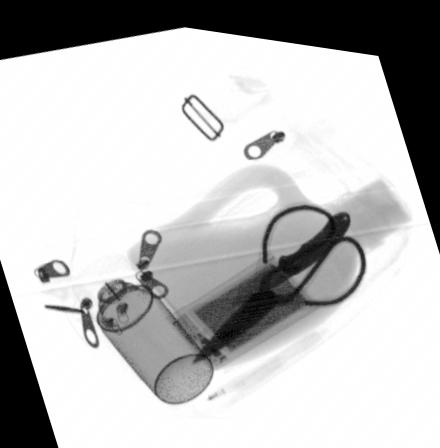Knife: (228, 201, 351, 297)
Powerbank: (164, 246, 321, 367)
Scissors: (189, 194, 369, 360)
Sprayer: (73, 251, 213, 399)
